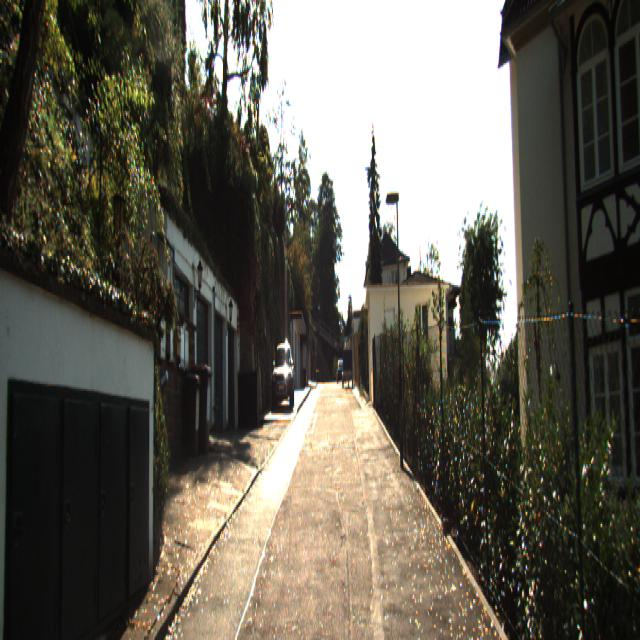Car: (272, 343, 294, 410), (342, 347, 354, 389)
